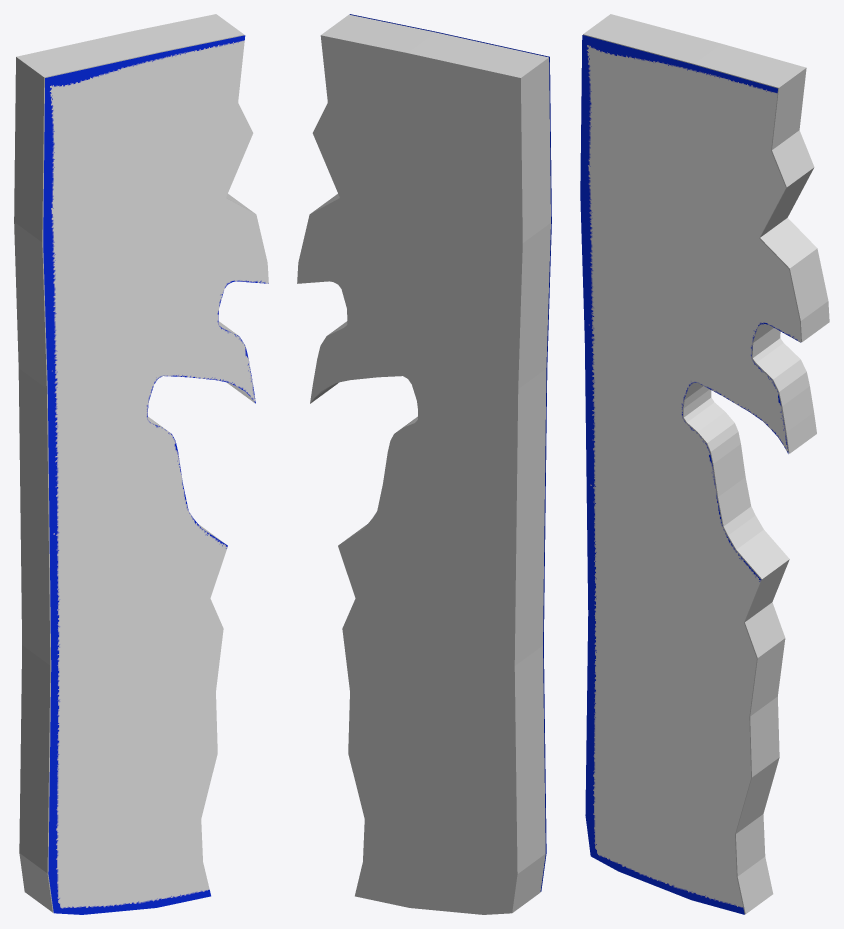
3 renders of one model, left to right at view 1: azimuth 30°, elevation 25°; view 2: azimuth 150°, elevation 25°; view 3: azimuth 330°, elevation 25°, orthographic. The views are drawn at different scales.
Parts seen in each view (by area): view 1: Out_1_1, Out_1_0; view 2: Out_1_0, Out_1_1; view 3: Out_1_1, Out_1_0.
Part boxes in pixels (x1=…): Out_1_1: x1=43, y1=35, x2=268, y2=914; Out_1_0: x1=14, y1=14, x2=254, y2=912; Out_1_0: x1=297, y1=14, x2=550, y2=914; Out_1_1: x1=349, y1=14, x2=551, y2=891; Out_1_1: x1=580, y1=35, x2=801, y2=914; Out_1_0: x1=583, y1=14, x2=829, y2=914.
Size of the model in its own units: 2.31 by 8.39 by 0.515.
2 materials, 1 textured.
